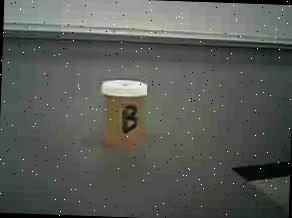Bottle B: (92, 72, 155, 160)
